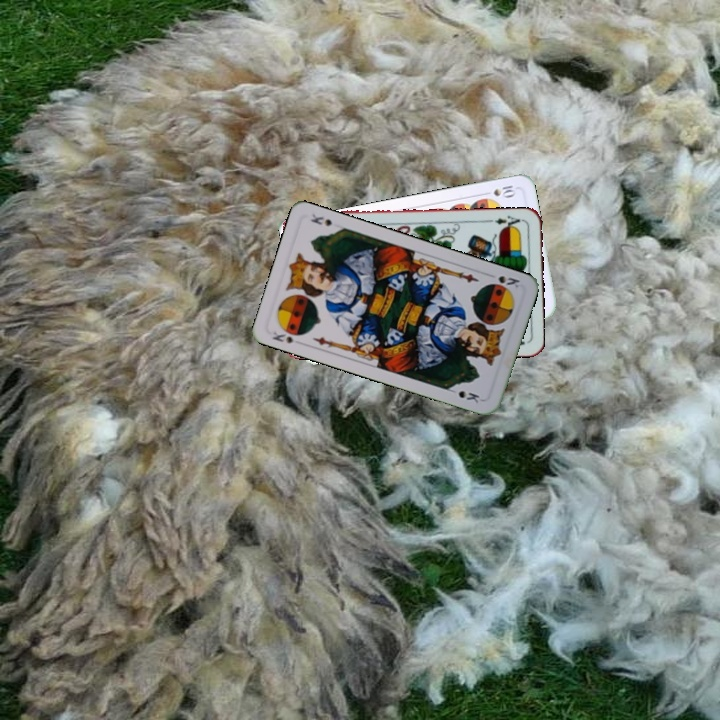EA: (486, 211, 526, 231)
S10: (479, 181, 518, 200)
SK: (268, 324, 306, 348), (486, 271, 522, 292)
